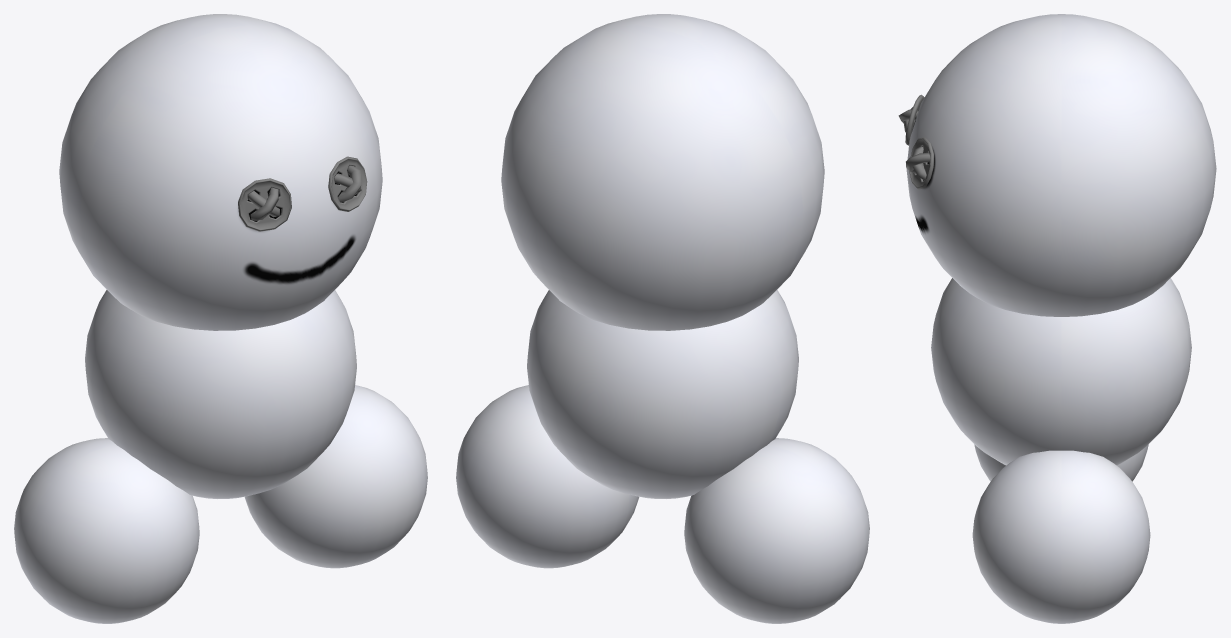
File: Texture_unit_ice.fbx
3 views of the same model, side by side, from view 1: azimuth 30°, elevation 25°; view 2: azimuth 150°, elevation 25°; view 3: azimuth 270°, elevation 25° (orthographic). The views are drawn at different scales.
Visible parts, largest first — view 1: Sphere002, PM3D_Cube3D_1, PM3D_Cube3D_002; view 2: Sphere002; view 3: Sphere002, PM3D_Cube3D_002, PM3D_Cube3D_1.
Boxes of the visible parts, <box> form: Sphere002: <box>14,14,427,623</box>; PM3D_Cube3D_1: <box>238,178,291,231</box>; PM3D_Cube3D_002: <box>328,156,367,211</box>; Sphere002: <box>456,14,869,623</box>; Sphere002: <box>906,14,1216,623</box>; PM3D_Cube3D_002: <box>906,137,933,189</box>; PM3D_Cube3D_1: <box>898,94,924,145</box>.
Size of the model in its own units: 157 by 116 by 215.
Materials: 2 (1 with a texture image).
